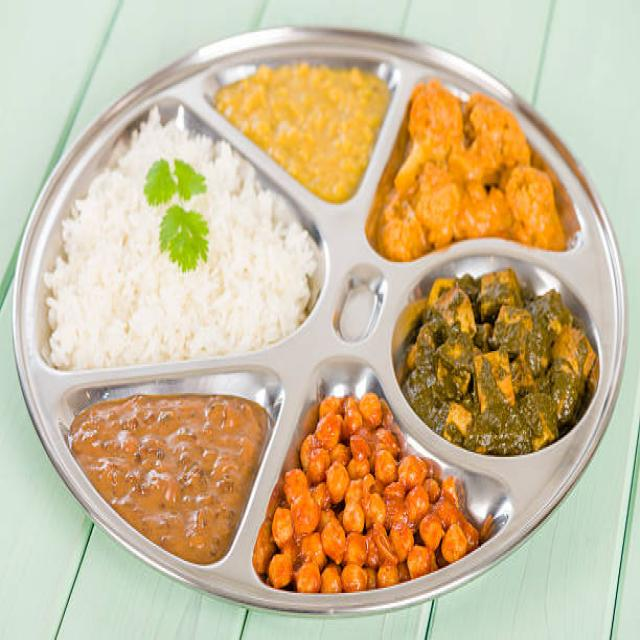CURRY: (375, 79, 571, 255)
RICE: (53, 98, 317, 364)
SUNDAL: (255, 379, 484, 592)
SWEET: (215, 60, 392, 206)
VEGGIES: (395, 260, 601, 455), (71, 391, 271, 567)
